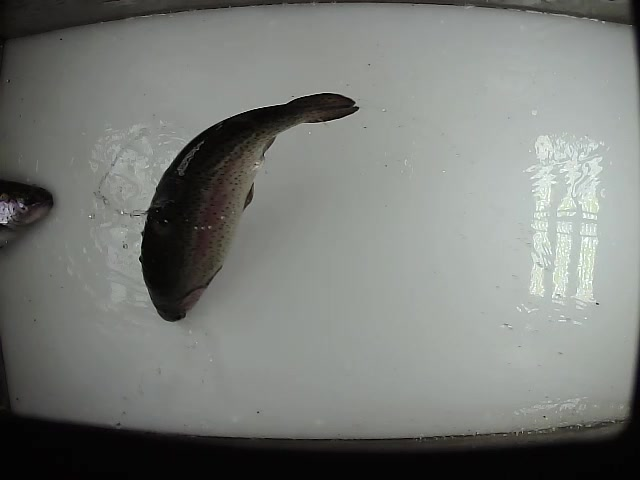fish: (130, 91, 359, 323), (1, 178, 56, 252)
